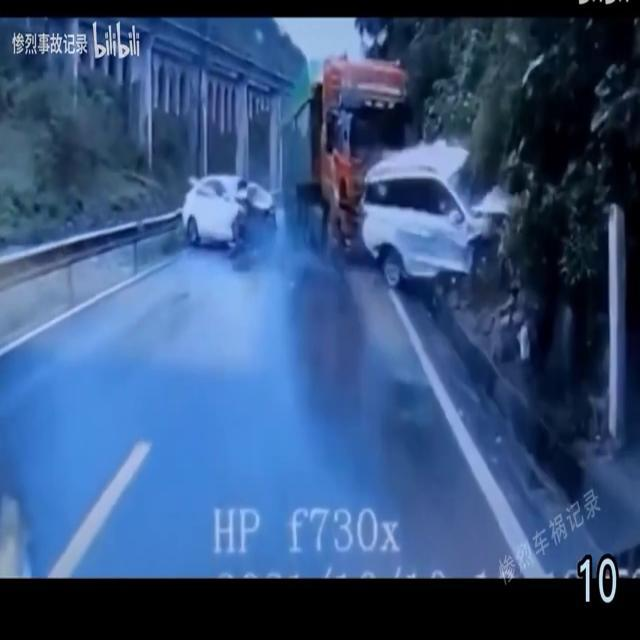multiple_accident: (297, 19, 459, 263), (169, 165, 284, 268)
